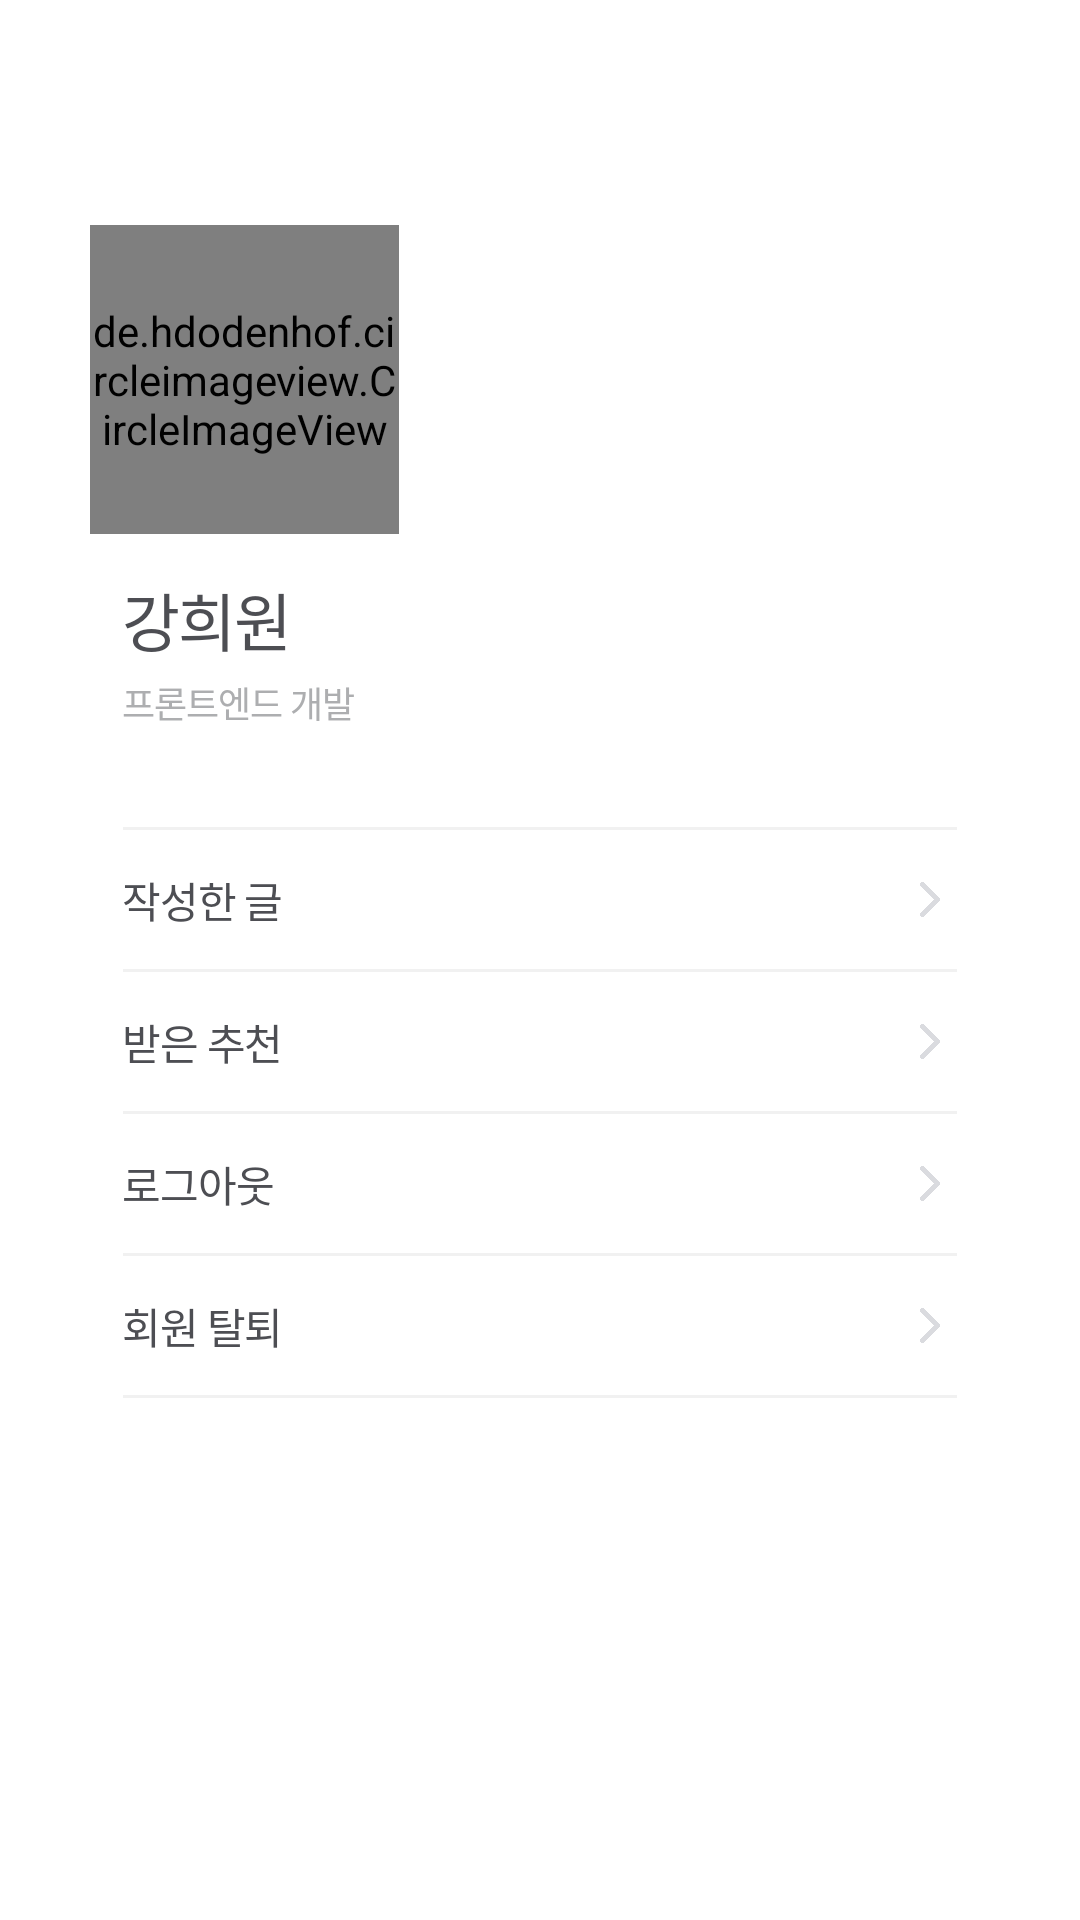

Where icons sit on this 1080w x 1920h app screen, as (x1, y1, x2, y2):
arrow next: (920, 882, 940, 917), (920, 1024, 940, 1059), (920, 1166, 940, 1201), (920, 1308, 940, 1343)
